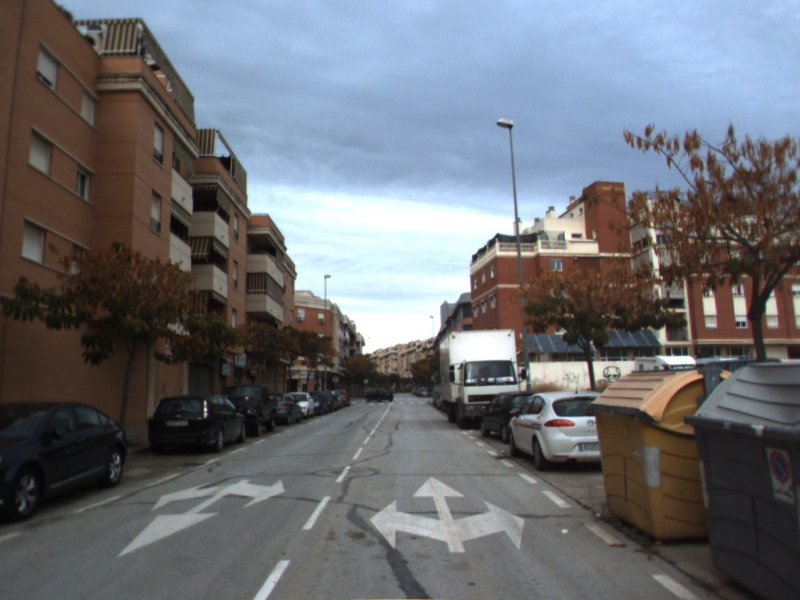STRAIGHT_LEFT_RIGHT: (368, 474, 527, 555)
